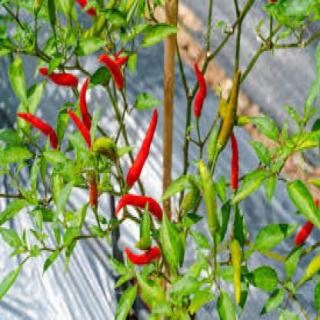green_chilli: (196, 162, 222, 236), (232, 231, 249, 302), (303, 256, 319, 282)
